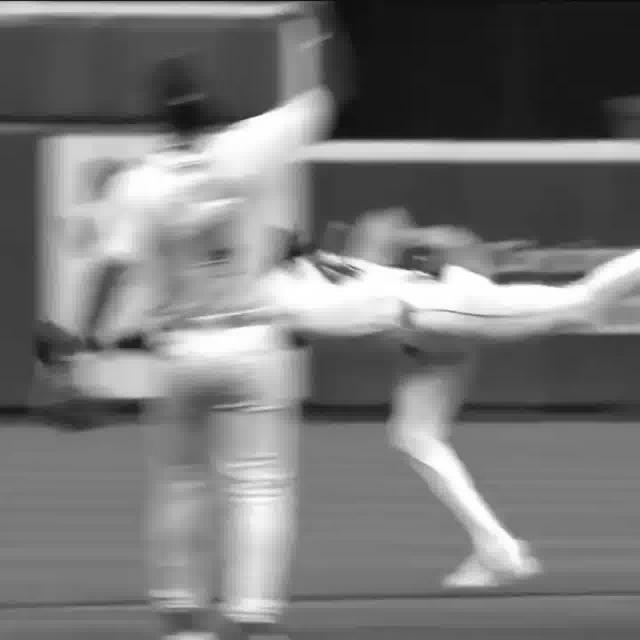shoe: (448, 544, 542, 592)
